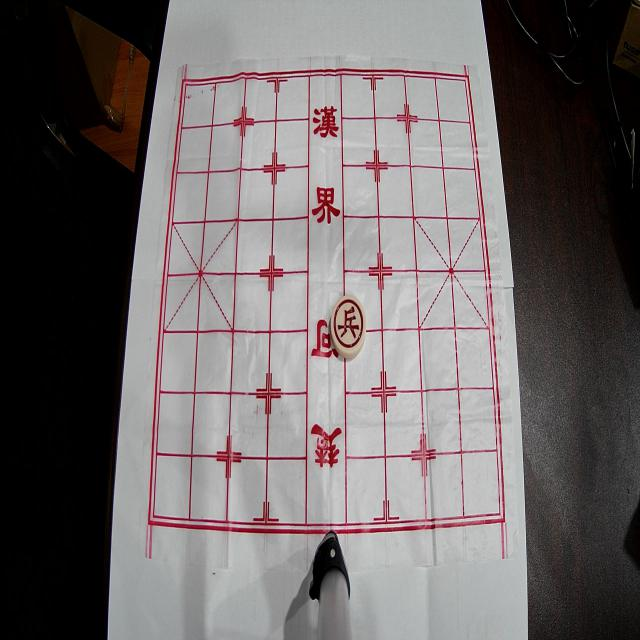red-soldier: (331, 295, 366, 359)
